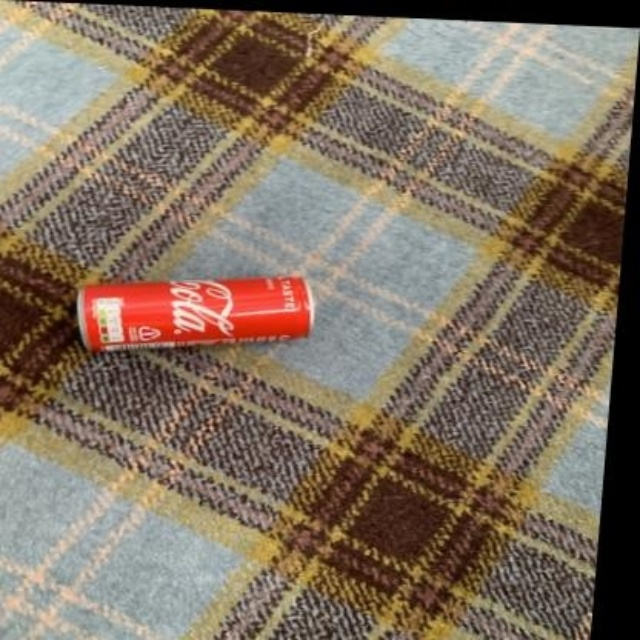trash: (77, 277, 312, 351)
